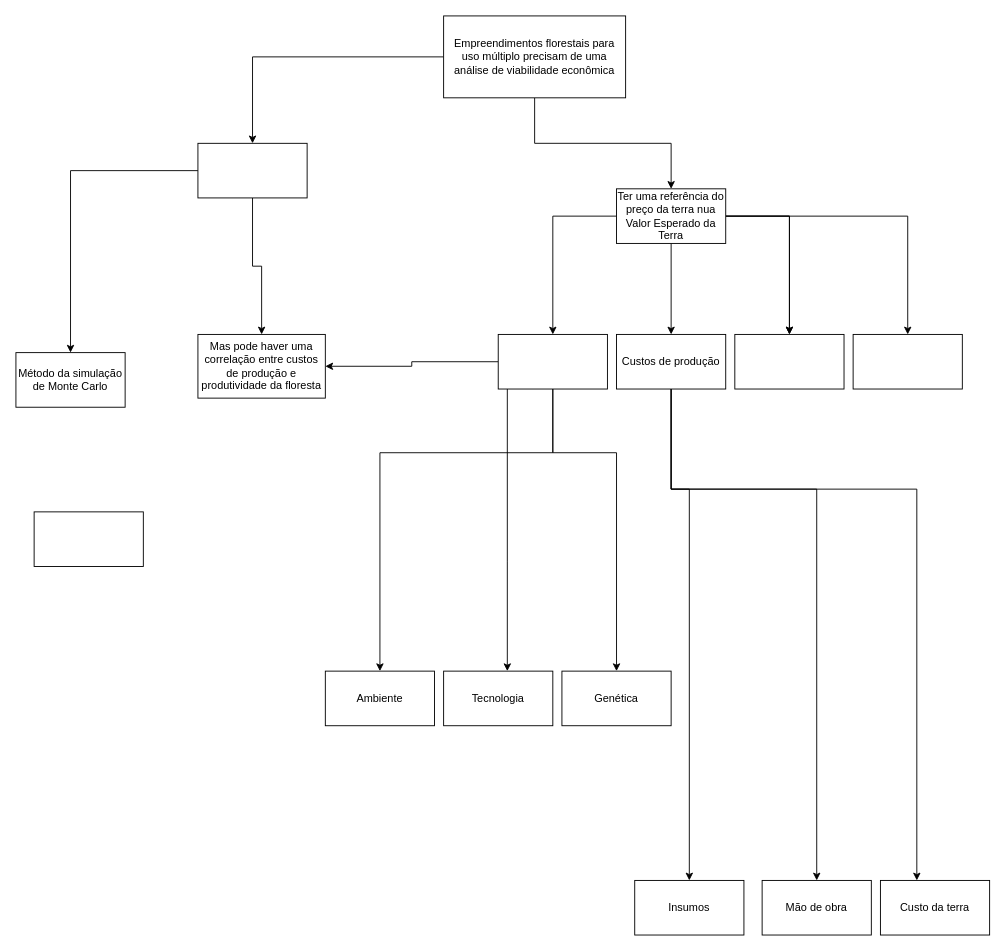
Some shapes in this 1006 by 951 pixel diagram are drawn without their labels. Each missing label, with the centre of its shape:
"Preço de venda da madeira" belongs at [789,361].
"Produtividade" belongs at [552,361].
"Simular cenários para mensurar os riscos" belongs at [252,170].
"Taxa interna de retorno" belongs at [907,361].
"Teoria de Cópulas para lidar com correlação entre variáveis" belongs at [88,538].
